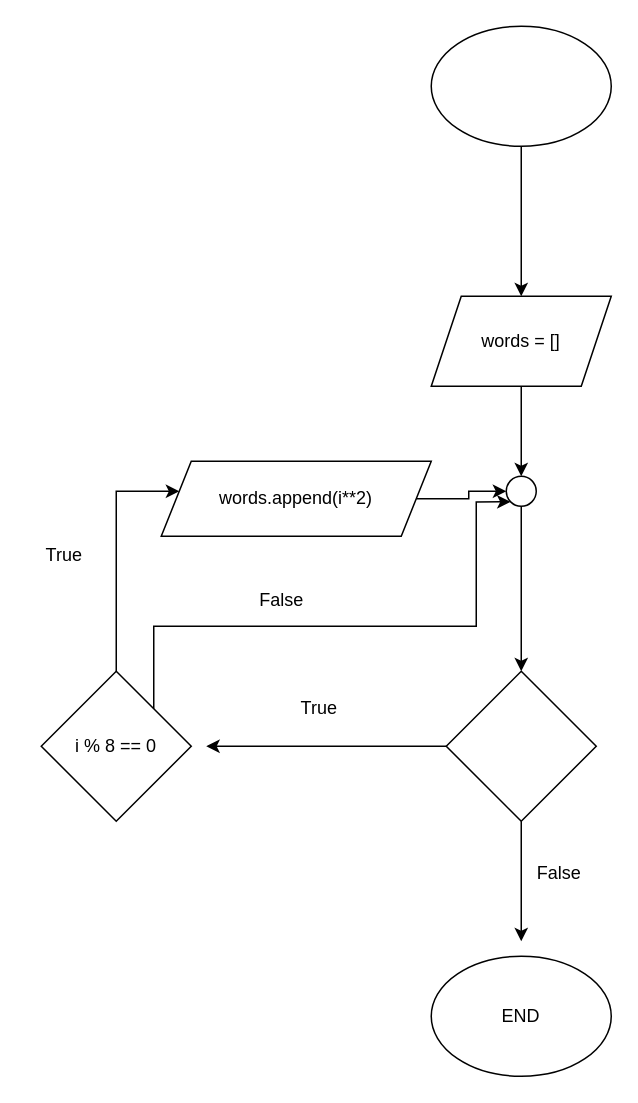
The diagram is 638 pixels wide and 1103 high, and some of its shapes have lost their labels. The centre of each missing label's shape, as x and y in pixels:
range(1000): (x=520, y=745)
START: (x=520, y=85)
